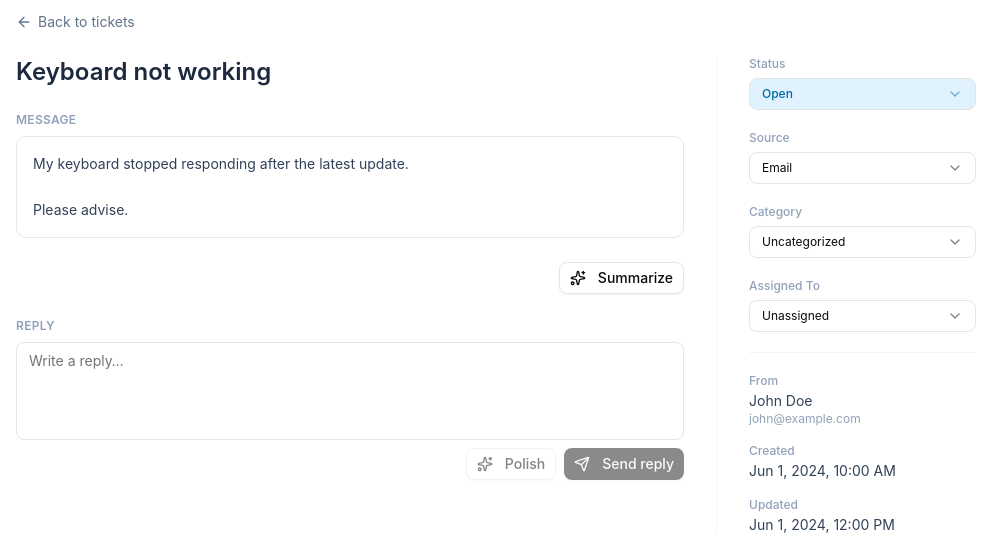
Scenario: TicketDetailPage › polish reply › shows 'Polishing…' and disables Send reply while the polish request is in flight
Expected: the heading "Keyboard not working" is shown, [16,57,271,86]
Type "hey thanks for reachin out" into the text box with placeholder "Write a reply…" at point(350, 391), box [16,342,684,440]
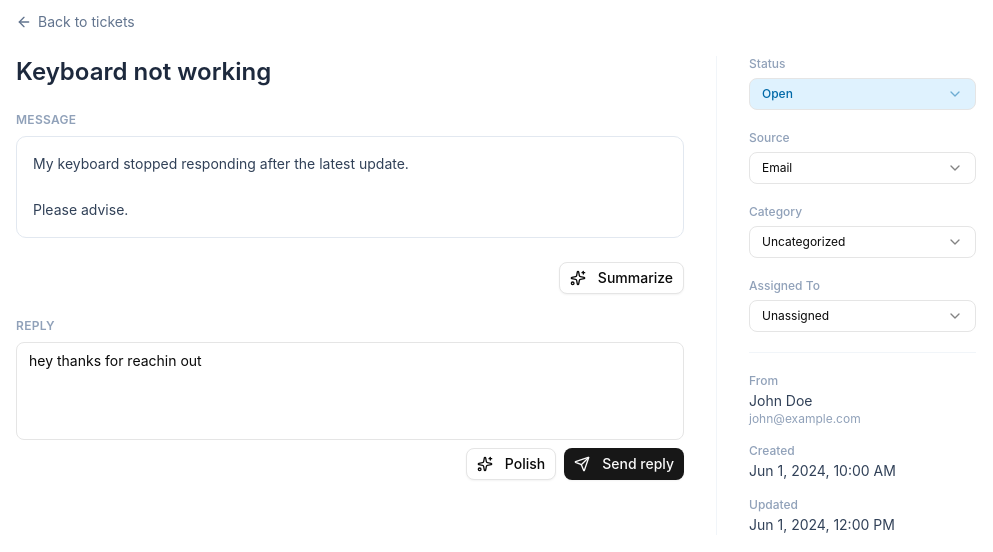
Click the button "Polish" at point(511, 464), box [466,448,556,480]
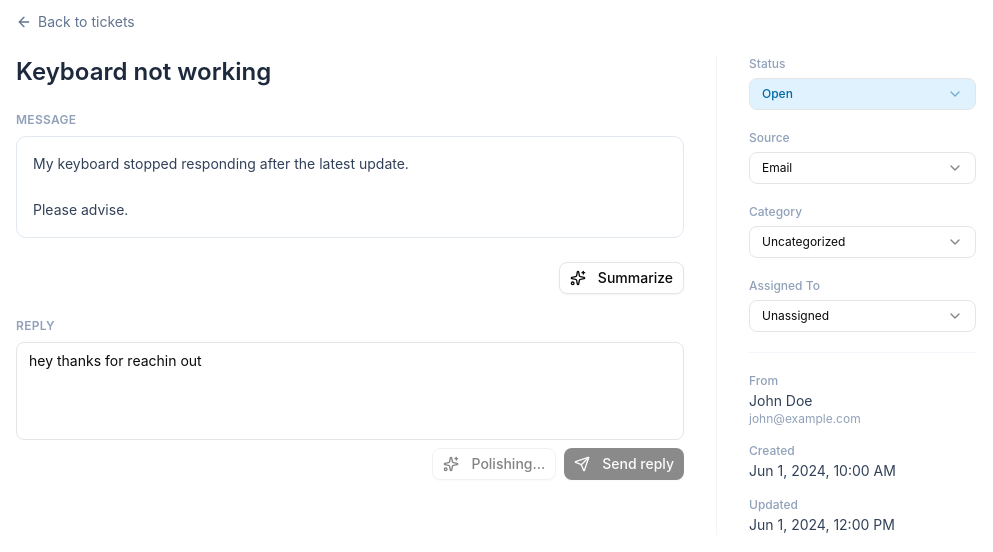
Expected: the button "Polishing…" is disabled, [432,448,556,480]
Expected: the button "Send reply" is disabled, [564,448,684,480]
